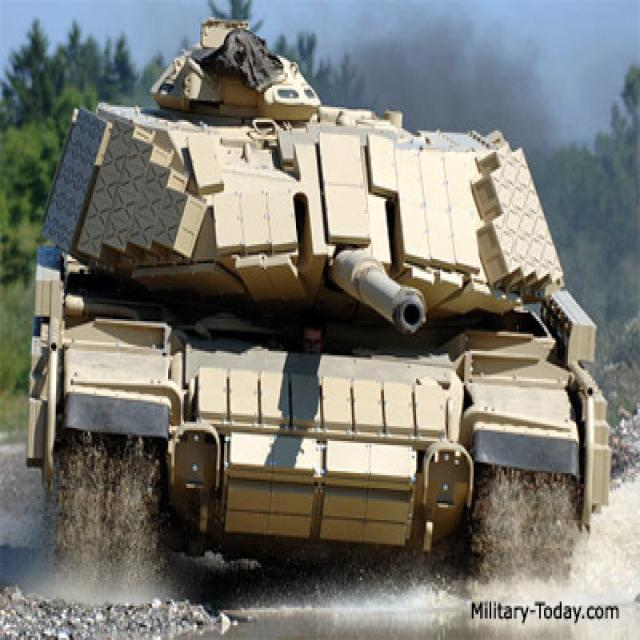Tank: (30, 24, 595, 561)
